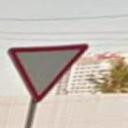preferencia: (4, 42, 94, 105)
